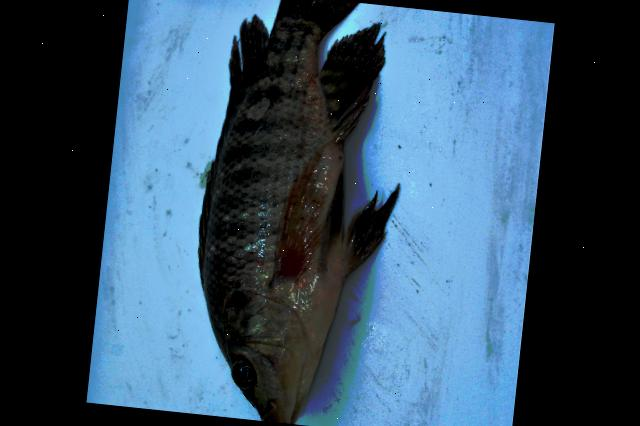Columnaris Disease: (199, 0, 399, 424)
